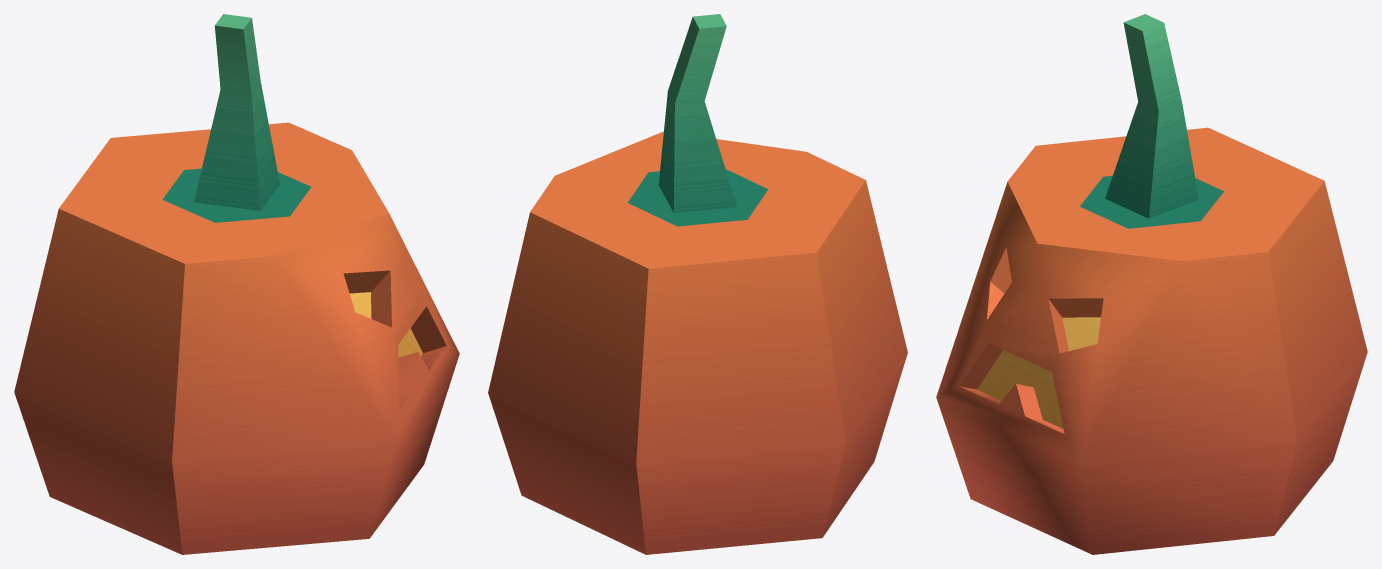
Rendered from pumpkin-carved_lev2.glb.
3 views of the same model, side by side, from view 1: azimuth 30°, elevation 25°; view 2: azimuth 150°, elevation 25°; view 3: azimuth 270°, elevation 25° (orthographic). The views are drawn at different scales.
Parts seen in each view (by area): view 1: pumpkin-carved_lev2; view 2: pumpkin-carved_lev2; view 3: pumpkin-carved_lev2.
Boxes of the visible parts, x1,y1,x2,y2 form: pumpkin-carved_lev2: (14, 14, 459, 554); pumpkin-carved_lev2: (488, 14, 907, 554); pumpkin-carved_lev2: (936, 14, 1367, 554).
Size of the model in its own units: 4.99 by 5.92 by 5.1.
1 material, 1 textured.
